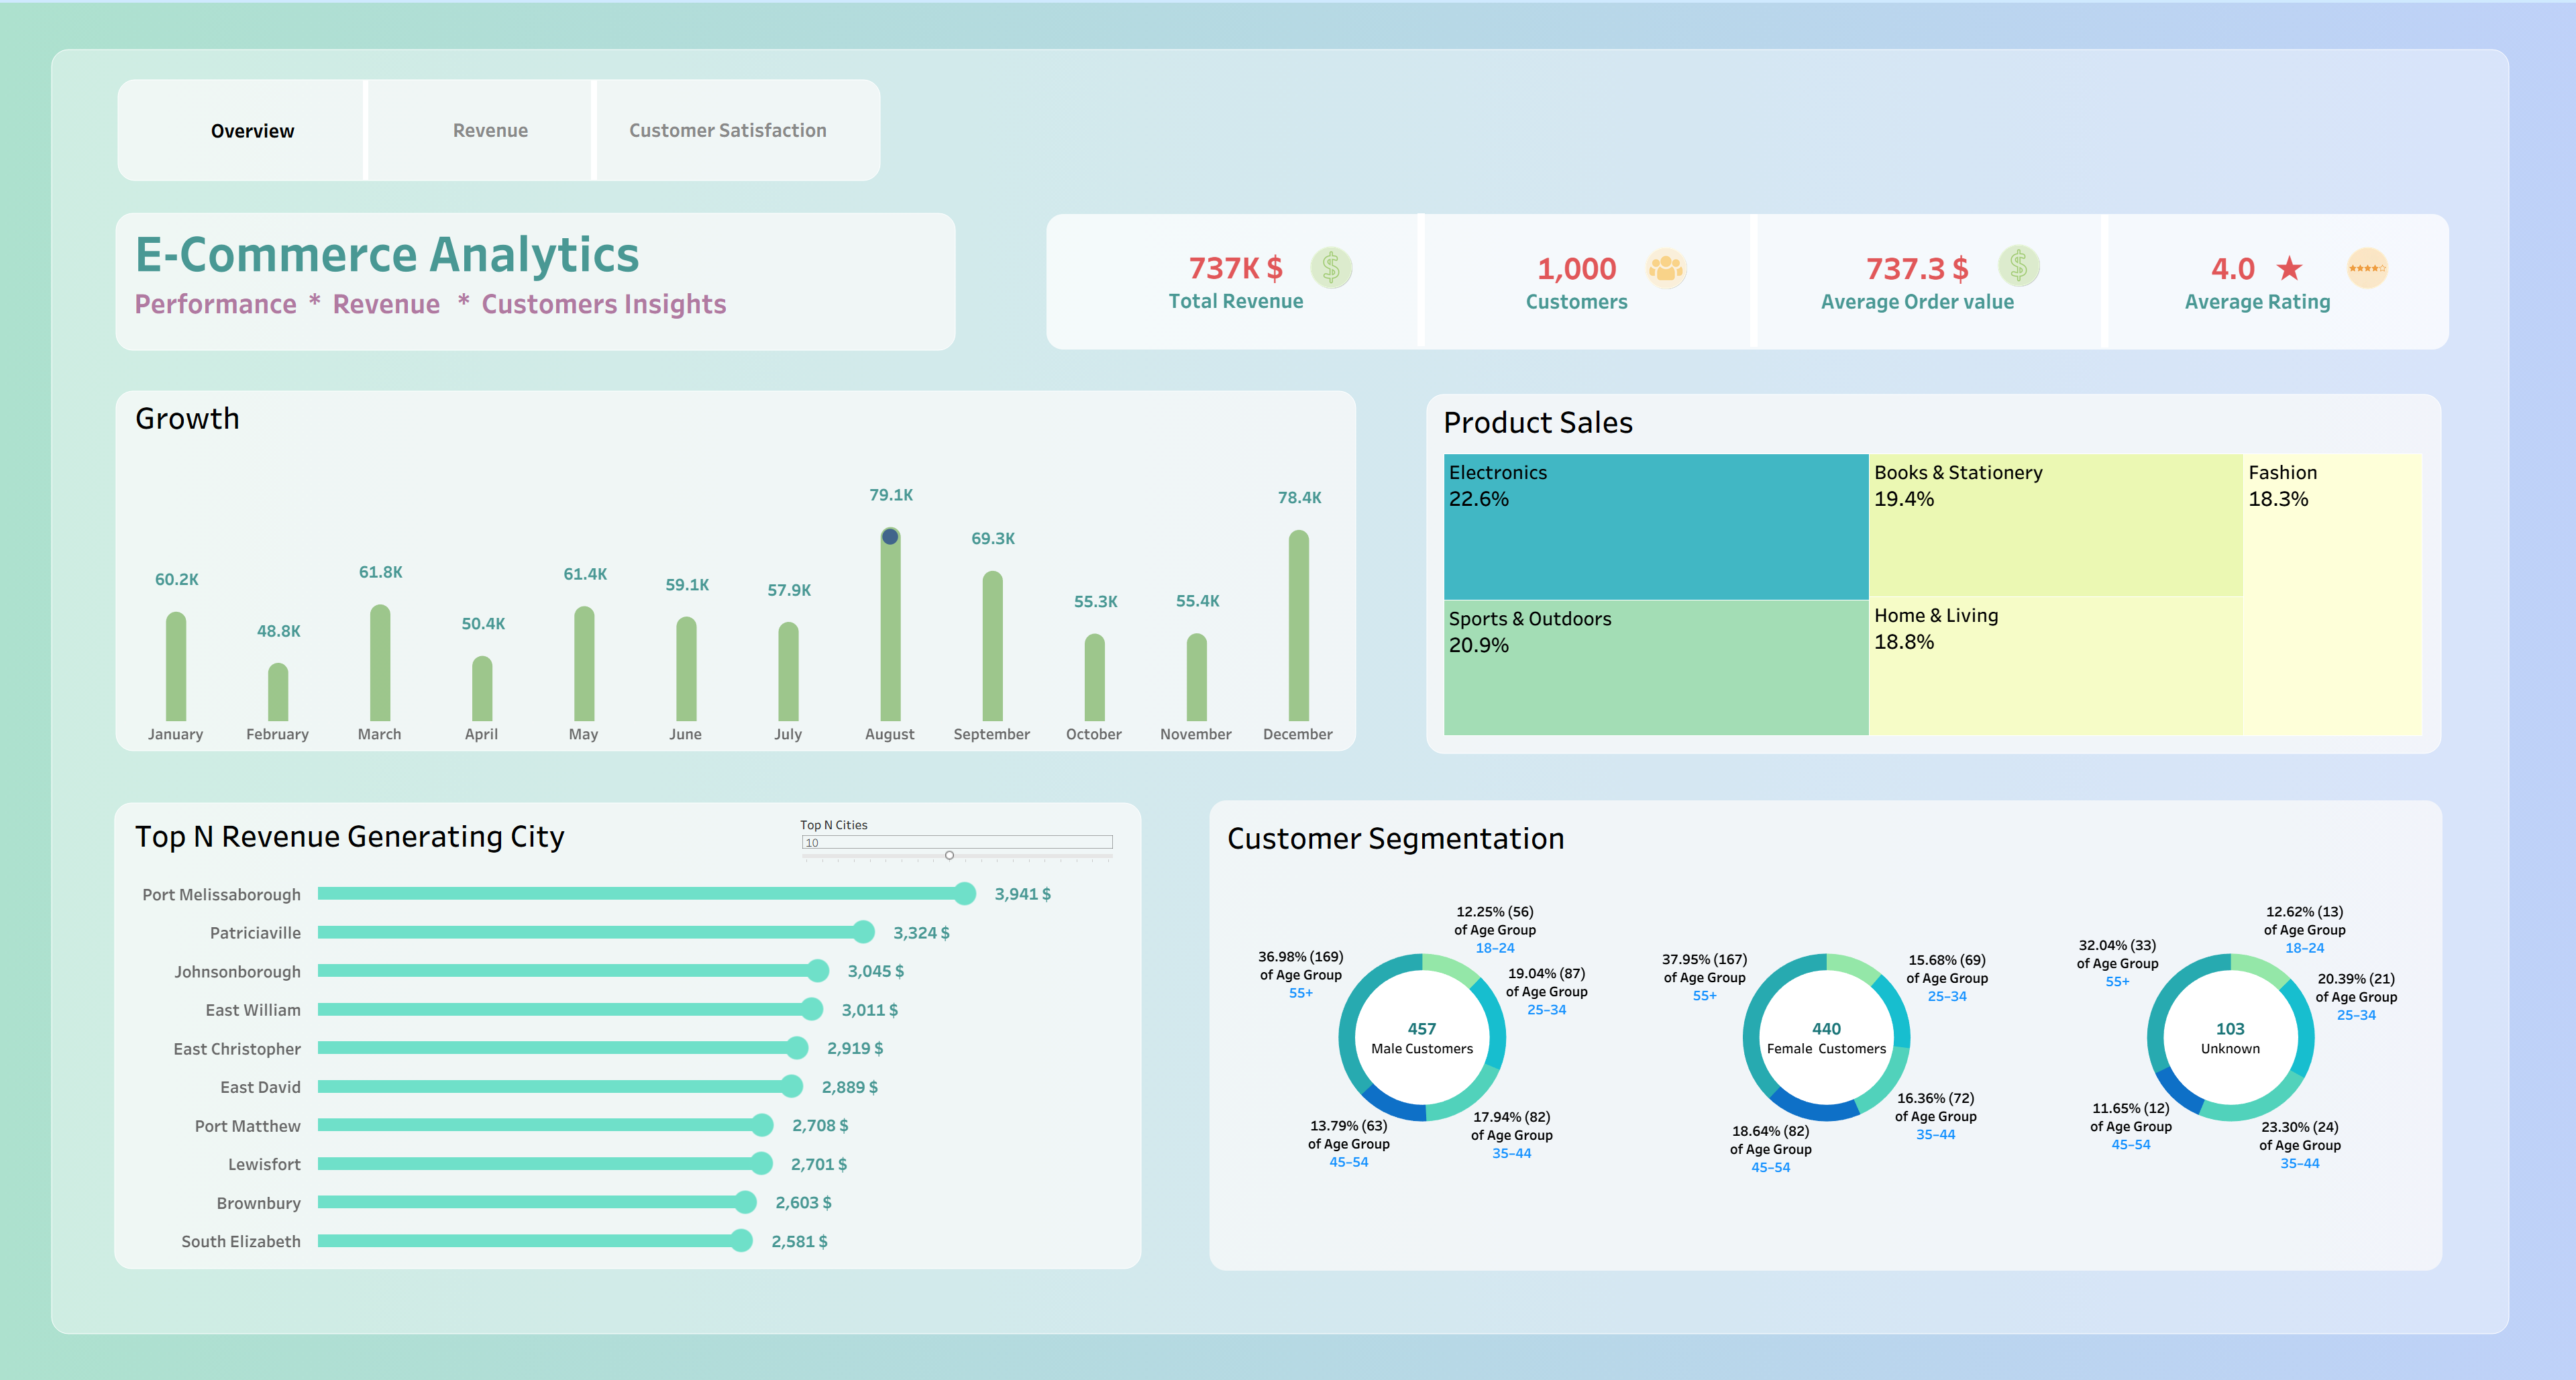

Layout of this report page (visuals, bound fields, positions):
{"tool":"tableau","page":{"name":"Dashboard 1","canvas":[3840,2160],"ordinal":0},"visuals":[{"type":"worksheet","title":"Blank Space Dashboard 1","mark":"Automatic","box":[20.9,26.9,3801.6,2134.2]},{"type":"text","box":[540.6,121.8,8.8,155.8]},{"type":"text","box":[881.2,121.8,8.8,155.8]},{"type":"text","box":[200,136,354,128]},{"type":"dashboard-object","box":[554,136,354,128]},{"type":"dashboard-object","box":[908,136,354,128]},{"type":"text","box":[2112.8,330.3,11,208.5]},{"type":"text","box":[2609.4,331.5,11,208.5]},{"type":"text","box":[3132.4,332.7,11,208.5]},{"type":"worksheet","title":"E-Commerce Analytics ","mark":"Automatic","box":[195.6,333.8,1210.8,205]},{"type":"worksheet","title":"Total Revenue","mark":"Automatic","box":[1589,348,508,177]},{"type":"worksheet","title":"Total Customer","mark":"Automatic","box":[2097,348,508,177]},{"type":"worksheet","title":"Average Order Value","mark":"Automatic","box":[2605,348,507,177]},{"type":"worksheet","title":"Average Rating","mark":"Automatic","box":[3112,348,507,177]},{"type":"image","param":"Image/Orders Icon.png","box":[2977.5,374.8,78,71.5]},{"type":"image","param":"Image/Sales Icon.png","box":[1950.2,378.3,78,71.5]},{"type":"image","param":"Image/Customer Icon.png","box":[2449,379.5,76.9,71.5]},{"type":"image","param":"Image/fdf-Photoroom.png","box":[3482.9,379.5,78,71.5]},{"type":"text","box":[196.7,618.5,385.7,60.9]},{"type":"text","box":[2146.9,625.5,385.7,57.4]},{"type":"worksheet","title":"Revenue Trend","mark":"Line","rows":["Calculation_1162496623210496"],"cols":["order_date"],"box":[185.7,689.9,1827.1,472.1]},{"type":"worksheet","title":"Treemap Category","mark":"Automatic","box":[2148,701.7,1465.7,451]},{"type":"text","box":[196.7,1258,944.9,90.2]},{"type":"text","box":[1825,1268.6,608.7,76.1]},{"type":"parameter","param":"[Parameters].[Parameter 1]","box":[1193.2,1274.4,469.1,87.8]},{"type":"worksheet","title":"Donut Age Gender","mark":"Pie","rows":["Calculation_1792518533464074","Calculation_1792518533464074"],"cols":["Calculation_1792518532075528"],"box":[1819.5,1280.3,1808.5,681.7]},{"type":"worksheet","title":"Top Cities by revenue","mark":"Bar","rows":["city"],"cols":["Calculation_1162496623210496","Calculation_1162496623210496"],"box":[197.8,1365.8,1449.2,604.4]}]}

Visuals, with their boxes on the page's 3840x2160 design canvas (x1, y1, x2, y2). These are canvas units, not pixel positions in the 2576x1380 screenshot, which may show the page scaled, cropped or inside an application window:
"Blank Space Dashboard 1" worksheet: x1=21, y1=27, x2=3822, y2=2161
text: x1=541, y1=122, x2=549, y2=278
text: x1=881, y1=122, x2=890, y2=278
text: x1=200, y1=136, x2=554, y2=264
dashboard-object: x1=554, y1=136, x2=908, y2=264
dashboard-object: x1=908, y1=136, x2=1262, y2=264
text: x1=2113, y1=330, x2=2124, y2=539
text: x1=2609, y1=332, x2=2620, y2=540
text: x1=3132, y1=333, x2=3143, y2=541
"E-Commerce Analytics " worksheet: x1=196, y1=334, x2=1406, y2=539
"Total Revenue" worksheet: x1=1589, y1=348, x2=2097, y2=525
"Total Customer" worksheet: x1=2097, y1=348, x2=2605, y2=525
"Average Order Value" worksheet: x1=2605, y1=348, x2=3112, y2=525
"Average Rating" worksheet: x1=3112, y1=348, x2=3619, y2=525
image: x1=2978, y1=375, x2=3056, y2=446
image: x1=1950, y1=378, x2=2028, y2=450
image: x1=2449, y1=380, x2=2526, y2=451
image: x1=3483, y1=380, x2=3561, y2=451
text: x1=197, y1=618, x2=582, y2=679
text: x1=2147, y1=626, x2=2533, y2=683
"Revenue Trend" worksheet (Line marks): x1=186, y1=690, x2=2013, y2=1162
"Treemap Category" worksheet: x1=2148, y1=702, x2=3614, y2=1153
text: x1=197, y1=1258, x2=1142, y2=1348
text: x1=1825, y1=1269, x2=2434, y2=1345
parameter: x1=1193, y1=1274, x2=1662, y2=1362
"Donut Age Gender" worksheet (Pie marks): x1=1820, y1=1280, x2=3628, y2=1962
"Top Cities by revenue" worksheet (Bar marks): x1=198, y1=1366, x2=1647, y2=1970
